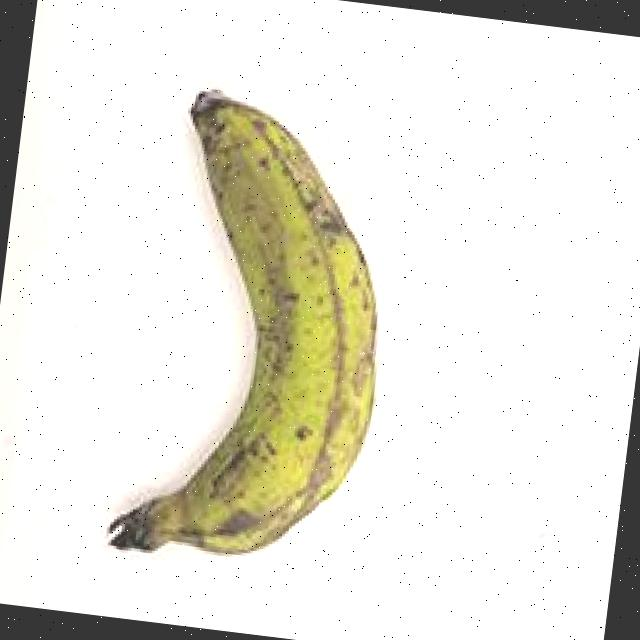Overripe: (55, 52, 443, 610)
